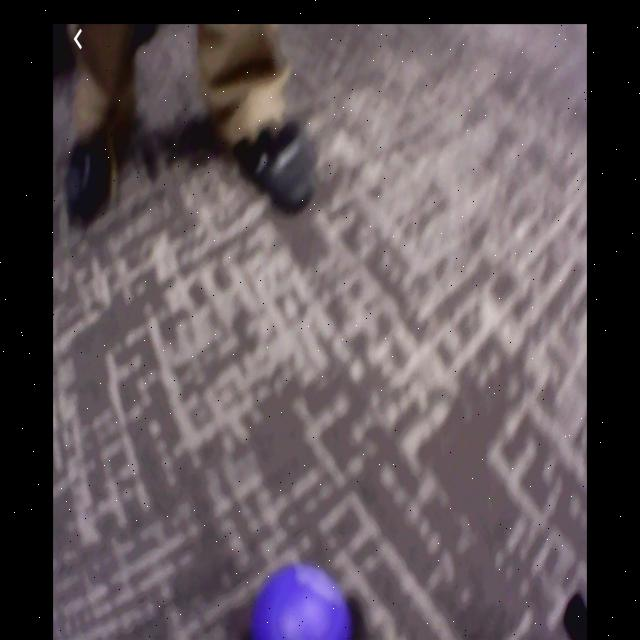ball: (252, 563, 354, 640)
